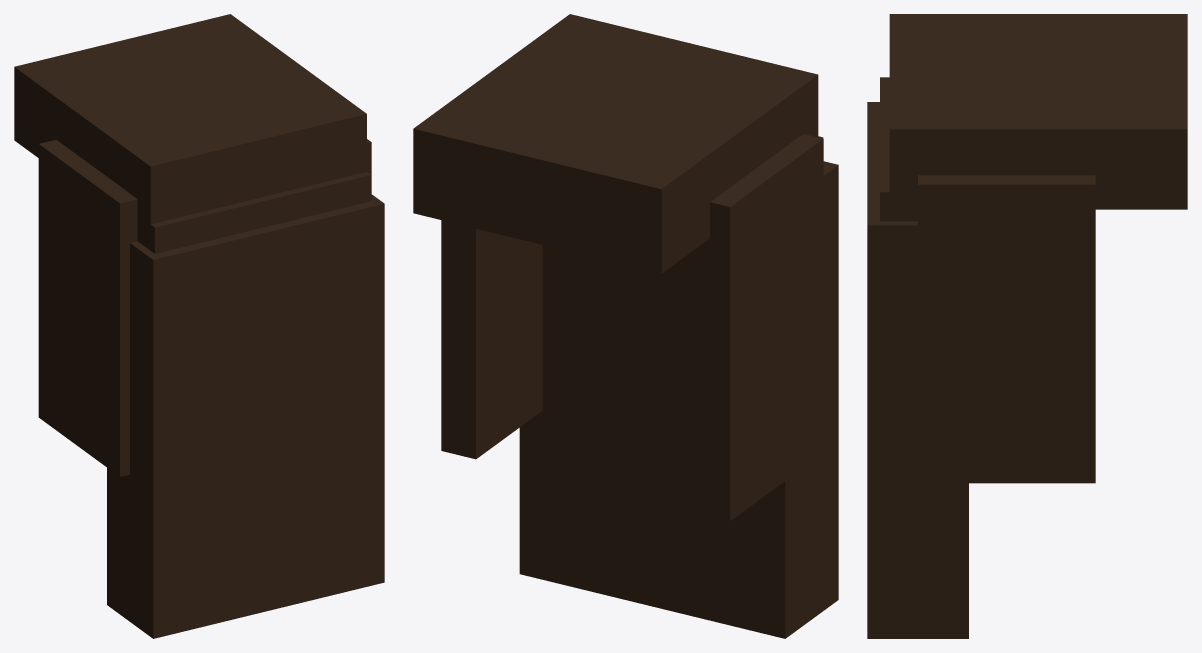
File: acc_hair_long.glb
3 views of the same model, side by side, from view 1: azimuth 30°, elevation 25°; view 2: azimuth 150°, elevation 25°; view 3: azimuth 270°, elevation 25° (orthographic). The views are drawn at different scales.
Parts seen in each view (by area): view 1: acc_hair_long__mesh; view 2: acc_hair_long__mesh; view 3: acc_hair_long__mesh.
Boxes of the visible parts, <box> form: acc_hair_long__mesh: <box>14,14,384,638</box>; acc_hair_long__mesh: <box>413,14,838,638</box>; acc_hair_long__mesh: <box>867,14,1187,638</box>.
Bounding box in the file's own units: 0.25 × 0.44 × 0.2525.
